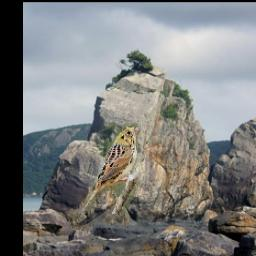Sparrow: (78, 124, 140, 215)
